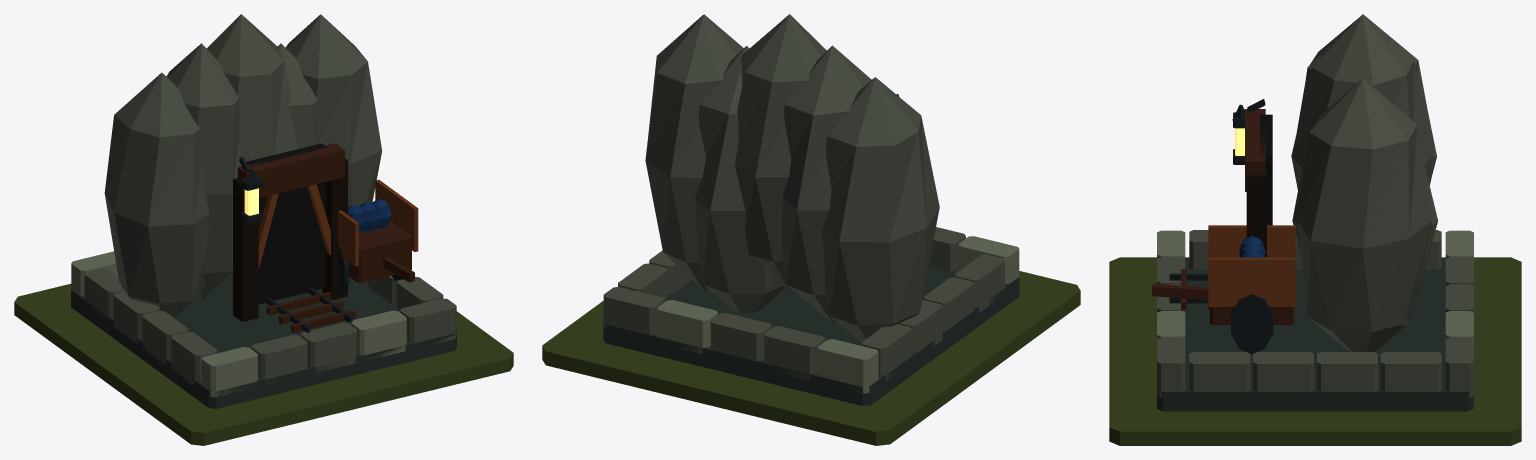
File: mine_t4.glb
3 renders of one model, left to right at view 1: azimuth 30°, elevation 25°; view 2: azimuth 150°, elevation 25°; view 3: azimuth 270°, elevation 25°, orthographic. The views are drawn at different scales.
Visible parts, largest first — view 1: MMR | mine | T04 Architecture.001, MMR | mine | Tier 04 Ground.001; view 2: MMR | mine | T04 Architecture.001, MMR | mine | Tier 04 Ground.001; view 3: MMR | mine | T04 Architecture.001, MMR | mine | Tier 04 Ground.001.
Boxes of the visible parts, box(x1,y1,x2,y2) form: MMR | mine | T04 Architecture.001: box(71, 14, 456, 408); MMR | mine | Tier 04 Ground.001: box(14, 283, 513, 445); MMR | mine | T04 Architecture.001: box(603, 14, 1019, 405); MMR | mine | Tier 04 Ground.001: box(542, 271, 1080, 445); MMR | mine | T04 Architecture.001: box(1152, 14, 1473, 411); MMR | mine | Tier 04 Ground.001: box(1109, 257, 1521, 445).
Size of the model in its own units: 1.3 by 1.2 by 1.3.
2 materials, 1 textured.
